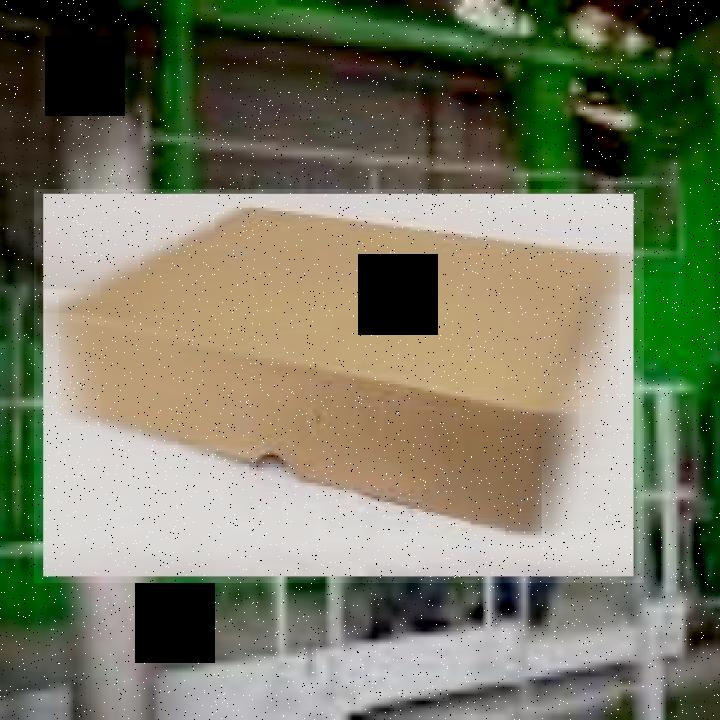box: (34, 189, 644, 583)
